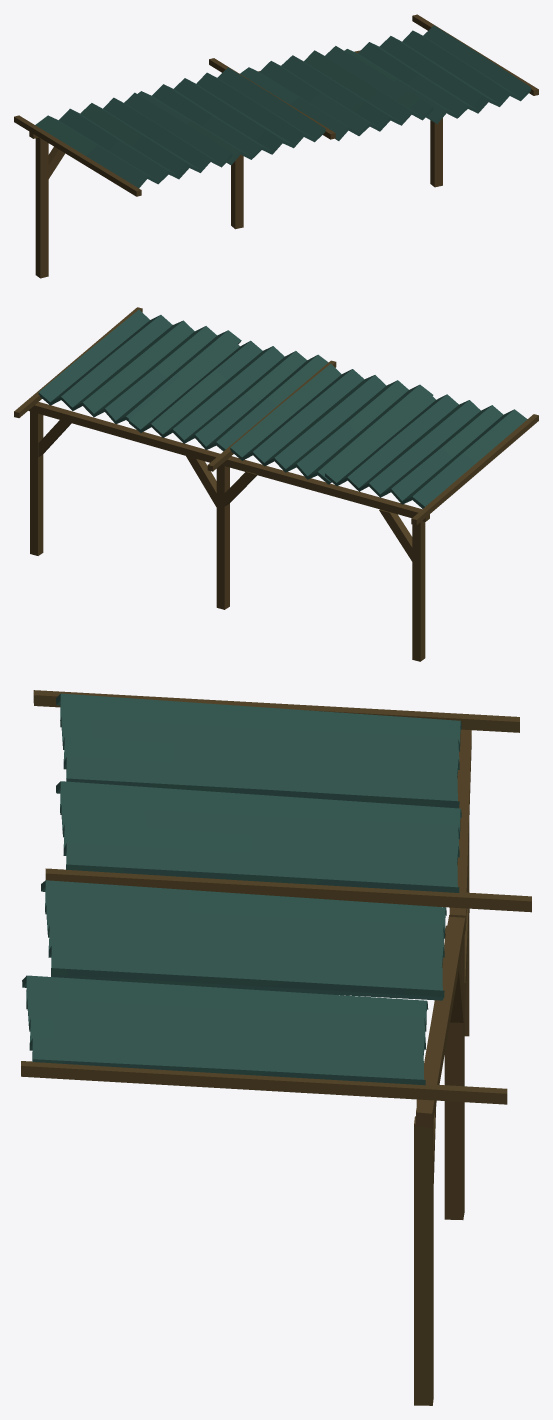
File: DarkWoodBuildingMediumCorrugatedAwning1.fbx
3 renders of one model, top to bottom at view 1: azimuth 30°, elevation 25°; view 2: azimuth 150°, elevation 25°; view 3: azimuth 270°, elevation 25°, orthographic. The views are drawn at different scales.
Visible parts, largest first — view 1: CorrugatedRoofing, Supports; view 2: CorrugatedRoofing, Supports; view 3: CorrugatedRoofing, Supports.
Part boxes in pixels (x1,y1,x2,y2): CorrugatedRoofing: (35,25,531,188); Supports: (14,14,538,278); CorrugatedRoofing: (38,309,527,508); Supports: (14,307,538,661); CorrugatedRoofing: (22,693,461,1085); Supports: (21,690,531,1405).
Size of the model in its own units: 1252 by 515 by 681.
